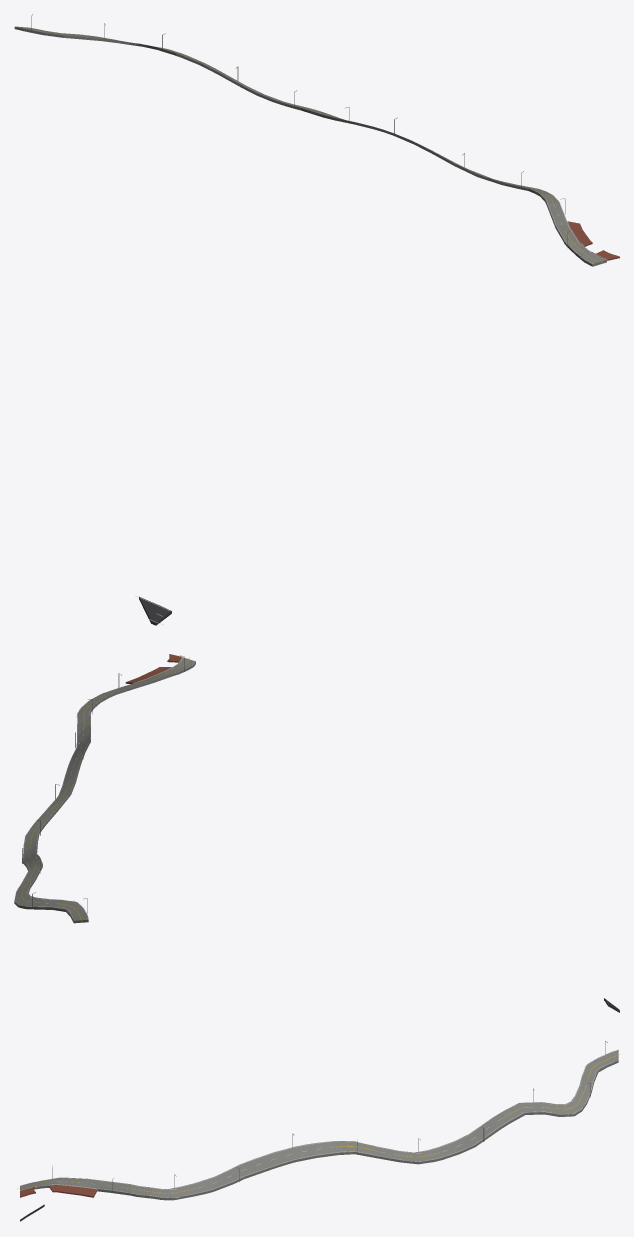
3 renders of one model, top to bottom at view 1: azimuth 30°, elevation 25°; view 2: azimuth 150°, elevation 25°; view 3: azimuth 270°, elevation 25°, orthographic. The views are drawn at different scales.
Bounding box in the file's own units: 233 × 145 × 295.
